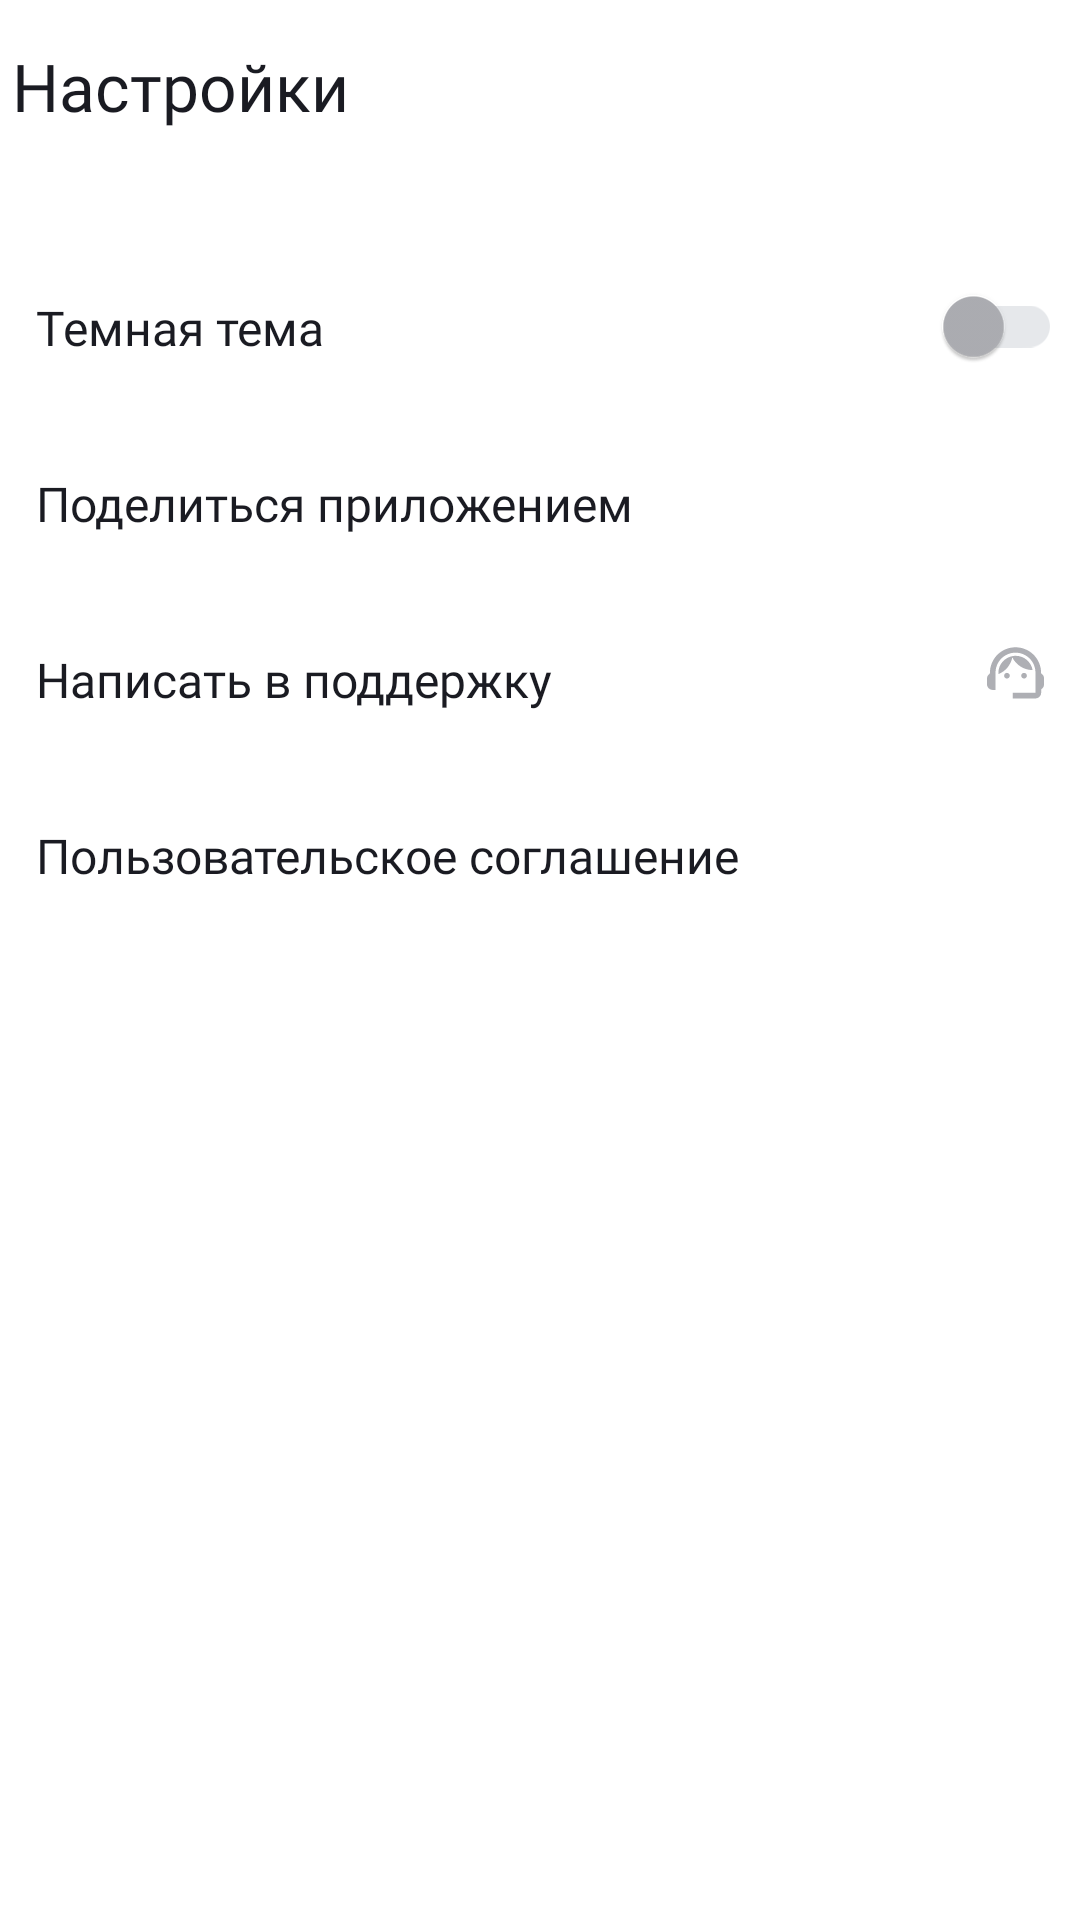

Where icons sit on this 1080 × 1920 app screen, as (x1,y1,x2,y2):
support: (987,647,1044,699)
